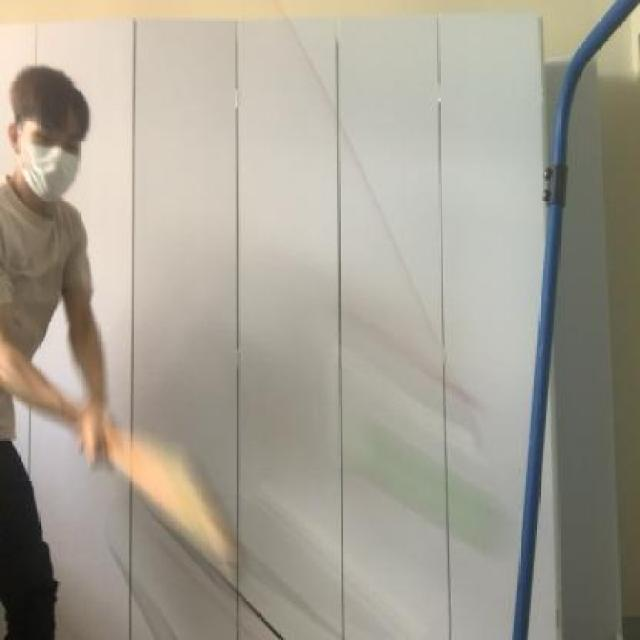baseball: (338, 406, 522, 563)
